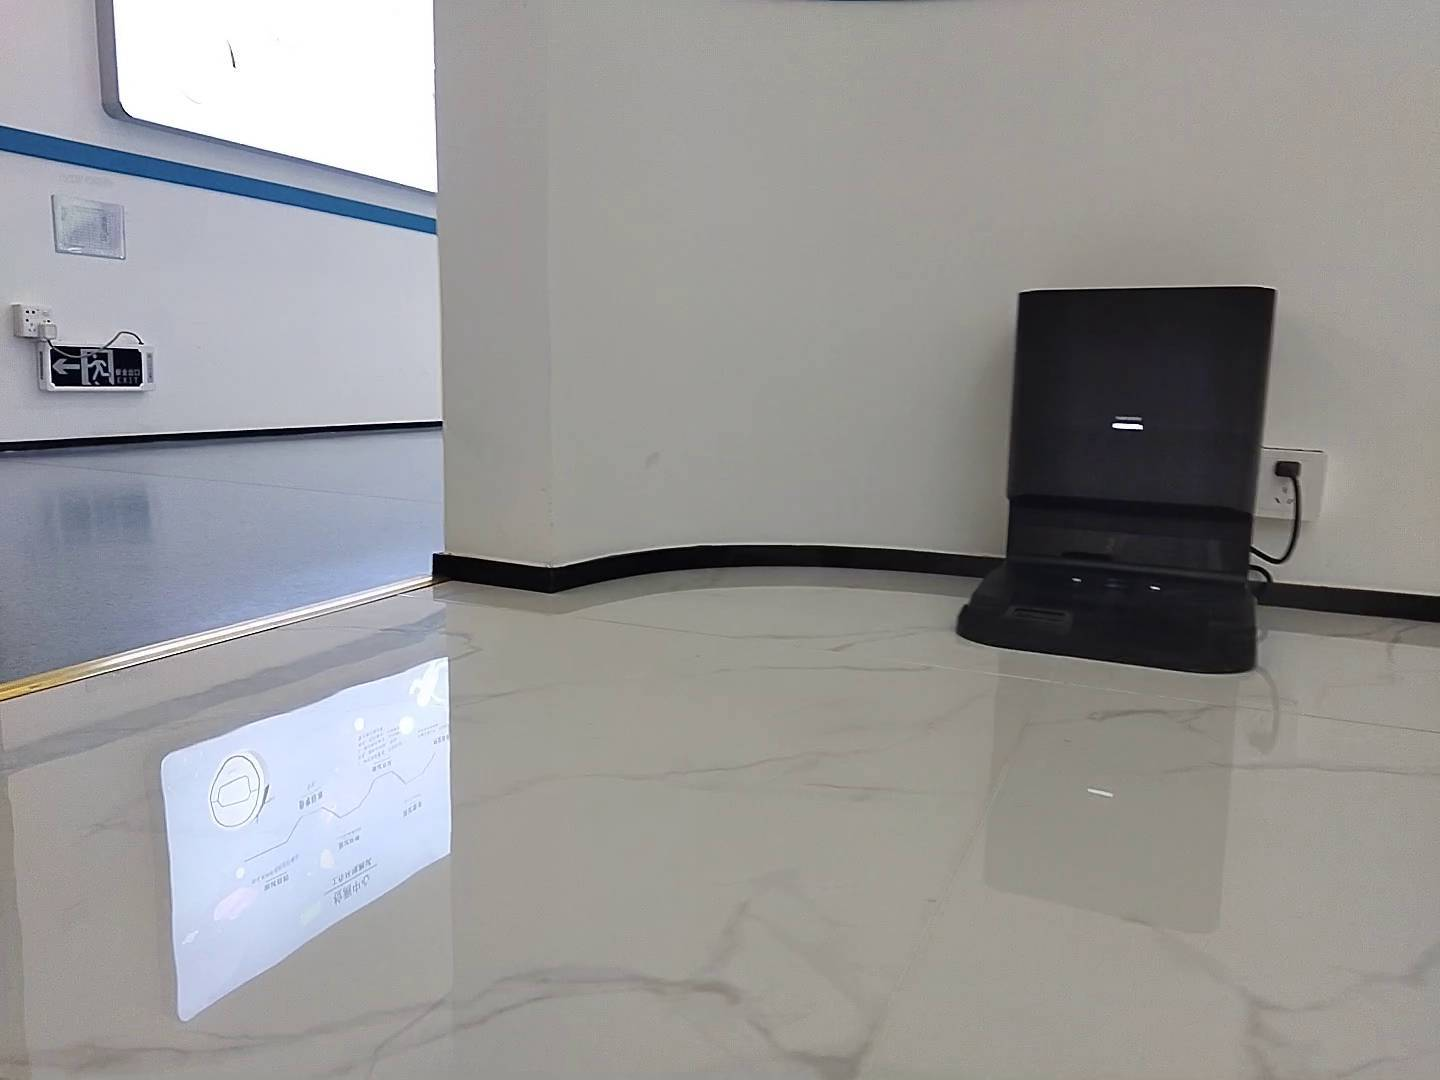dust collecting barrel: (954, 285, 1284, 675)
